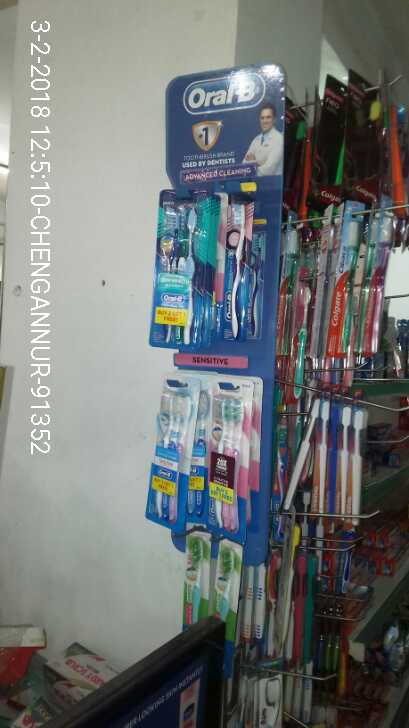oralb: (150, 188, 212, 347), (146, 374, 196, 534), (208, 375, 255, 534), (224, 182, 250, 340)
